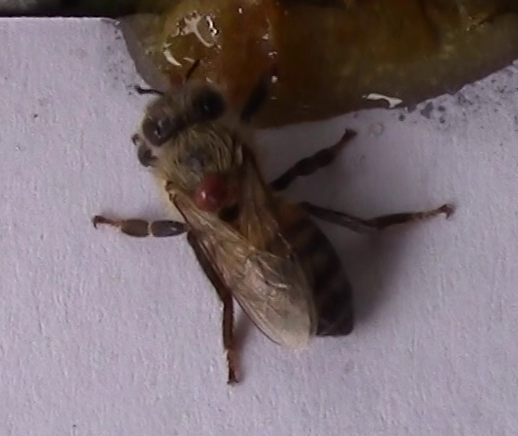Varroa destructor: (191, 171, 231, 212)
